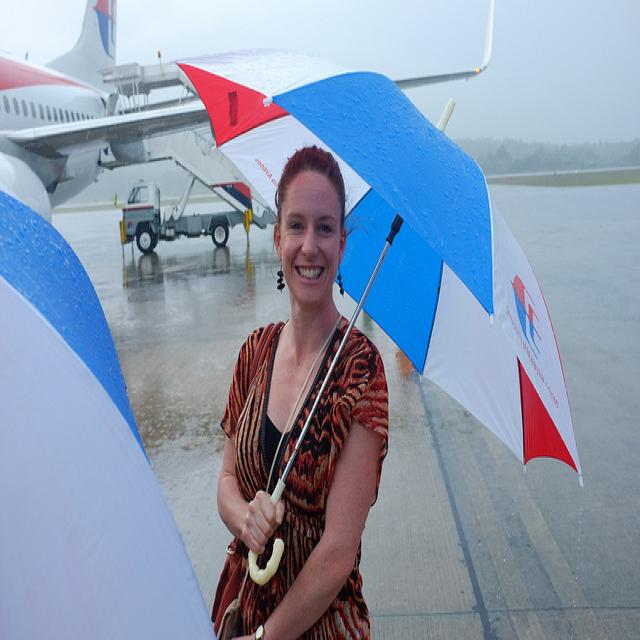Vehicle: (119, 125, 278, 254)
